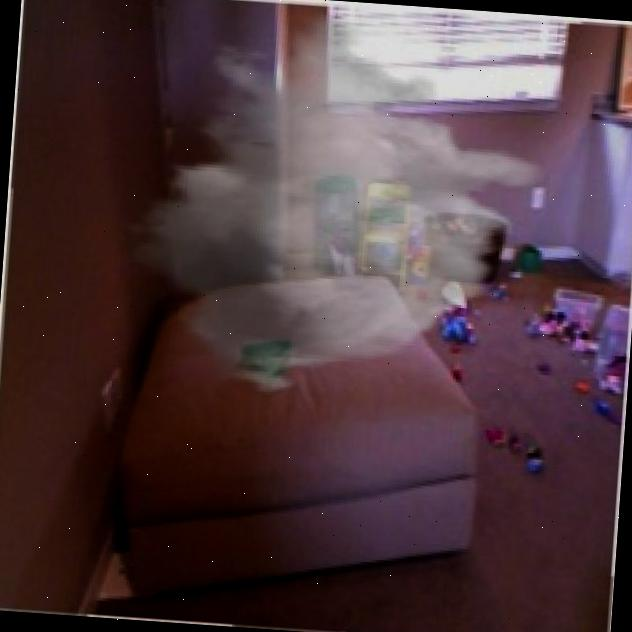smoke: (109, 0, 561, 416)
